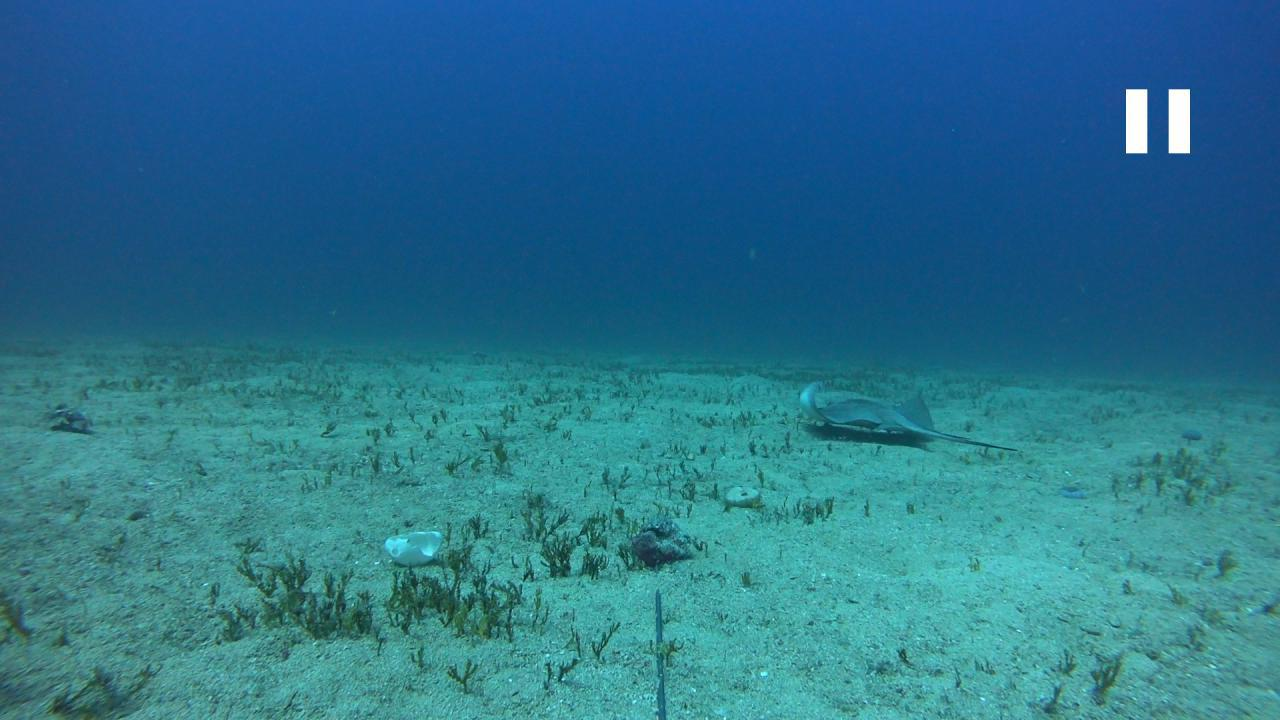dasyatis: (798, 379, 1018, 452)
